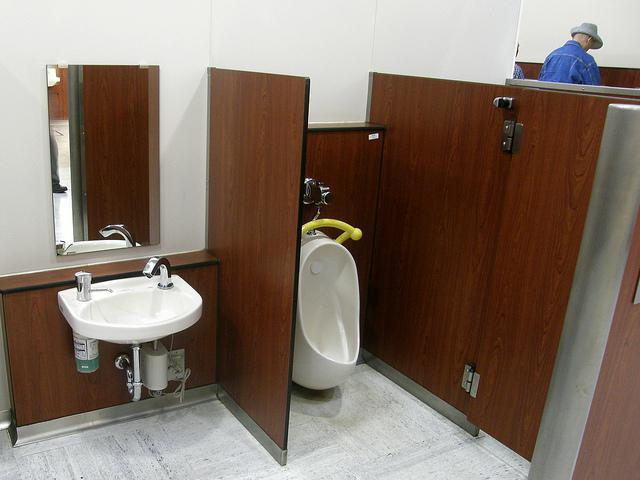Lavamanos: (63, 260, 199, 410)
Sanitario: (233, 186, 390, 399)
